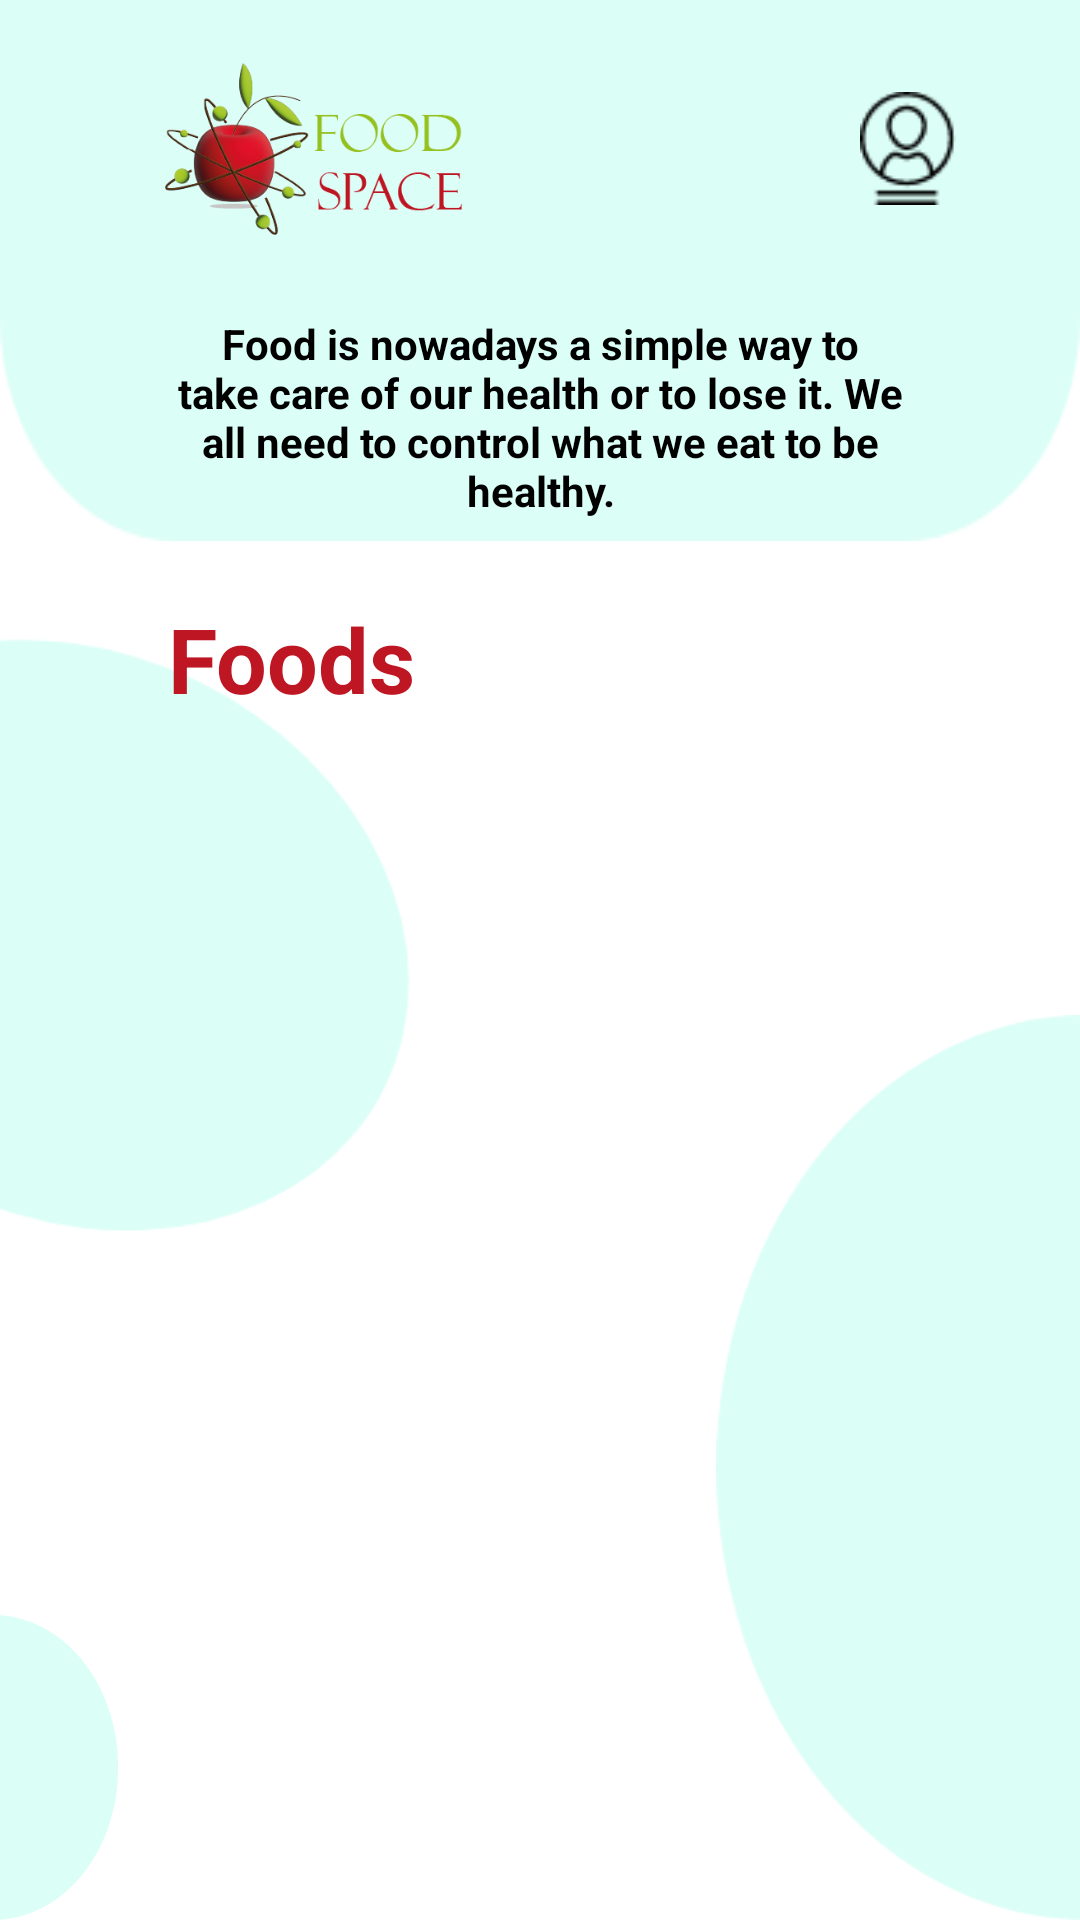

Point at icon controls on the screen. Image size 1080px×1920px, points as (x,y).
profil: (907,148)
